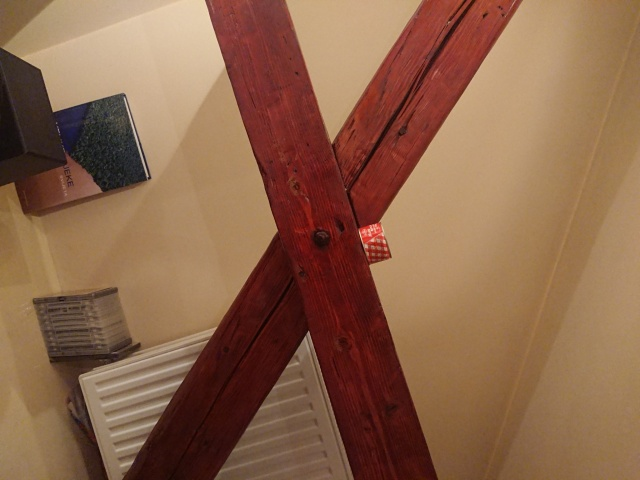Podravka Luncheon Meat 150g: (355, 219, 394, 267)
